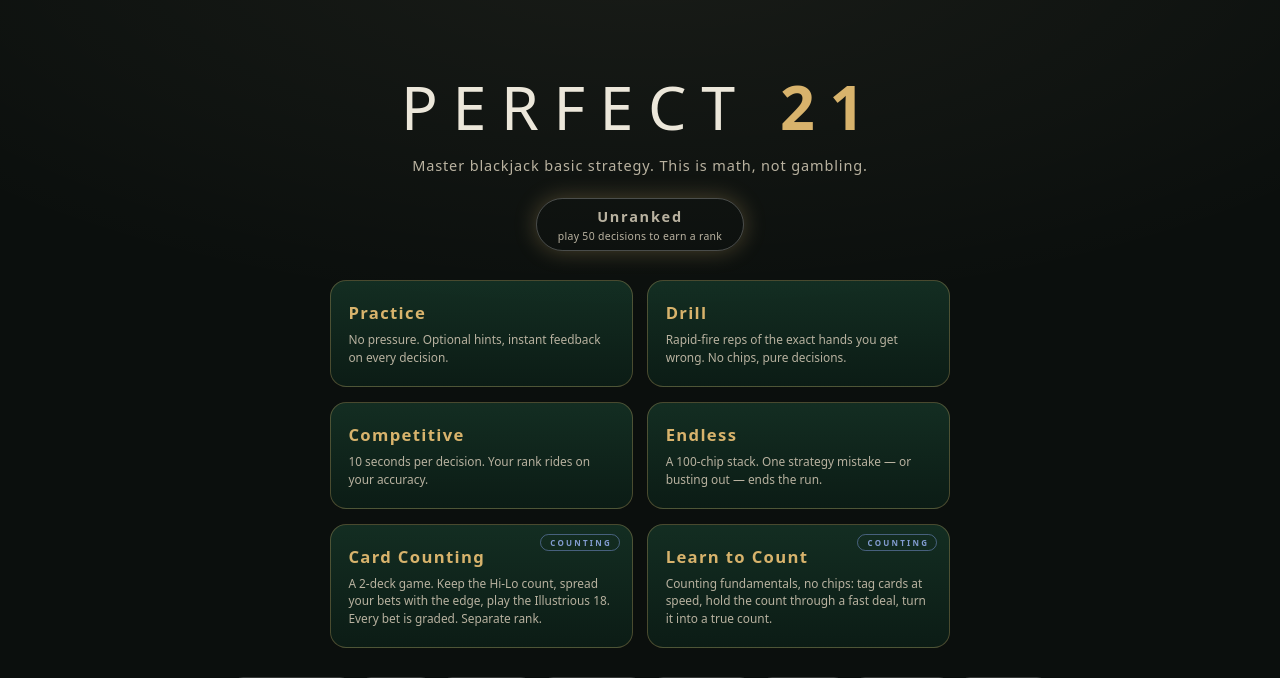
Perfect 21 app › stages chips with undo and ×2 before dealing
Click the text "Practice": (387,313) [348,301,426,324]
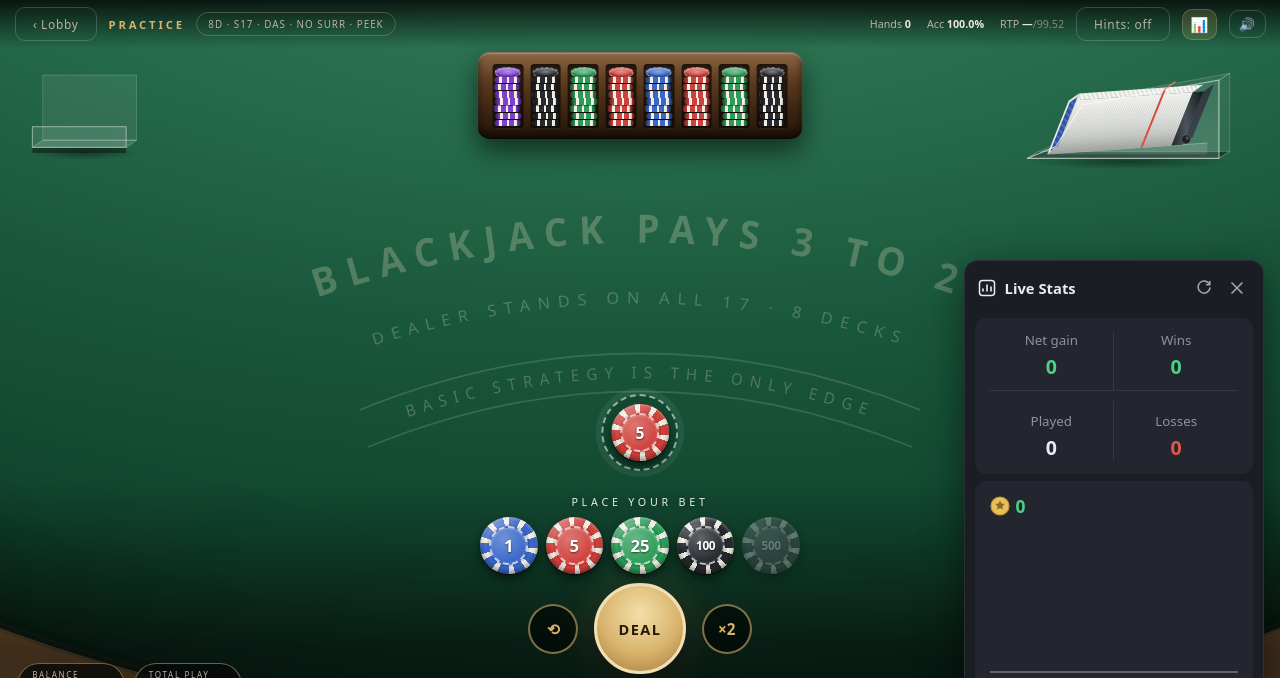
Expected: the text "PLACE YOUR BET" is shown, [571,495,709,509]
Click the button named "add 25 chip": (640,545) [611,517,669,574]
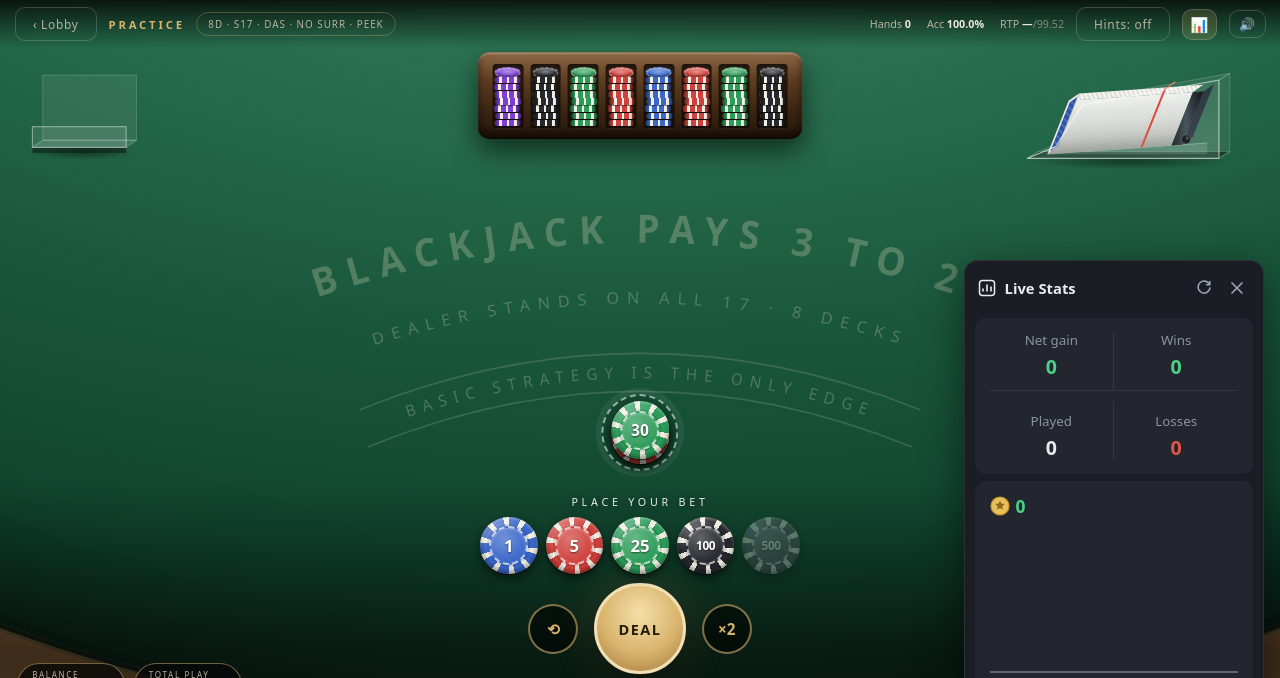
Click the button titled "Double bet": (727,629) [702,604,752,654]
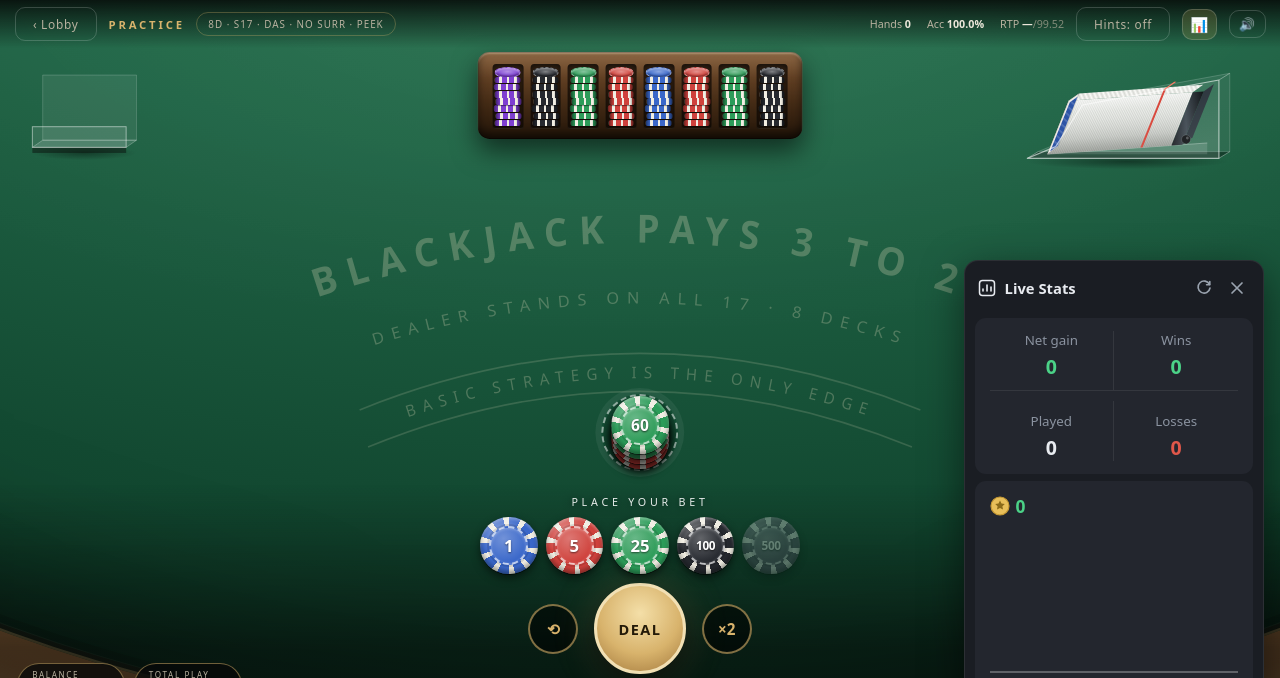
Click the button titled "Undo chip": (553,629) [528,604,578,654]
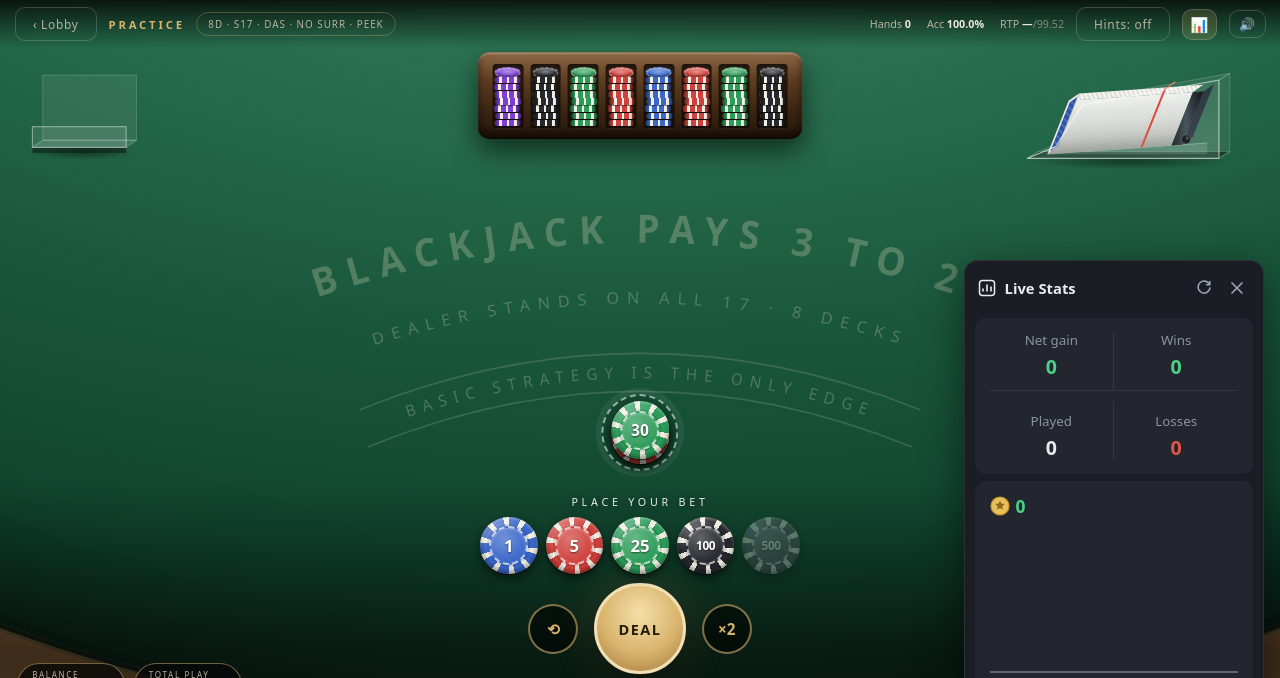
Expected: the text "30" is shown, [631,420,649,442]
